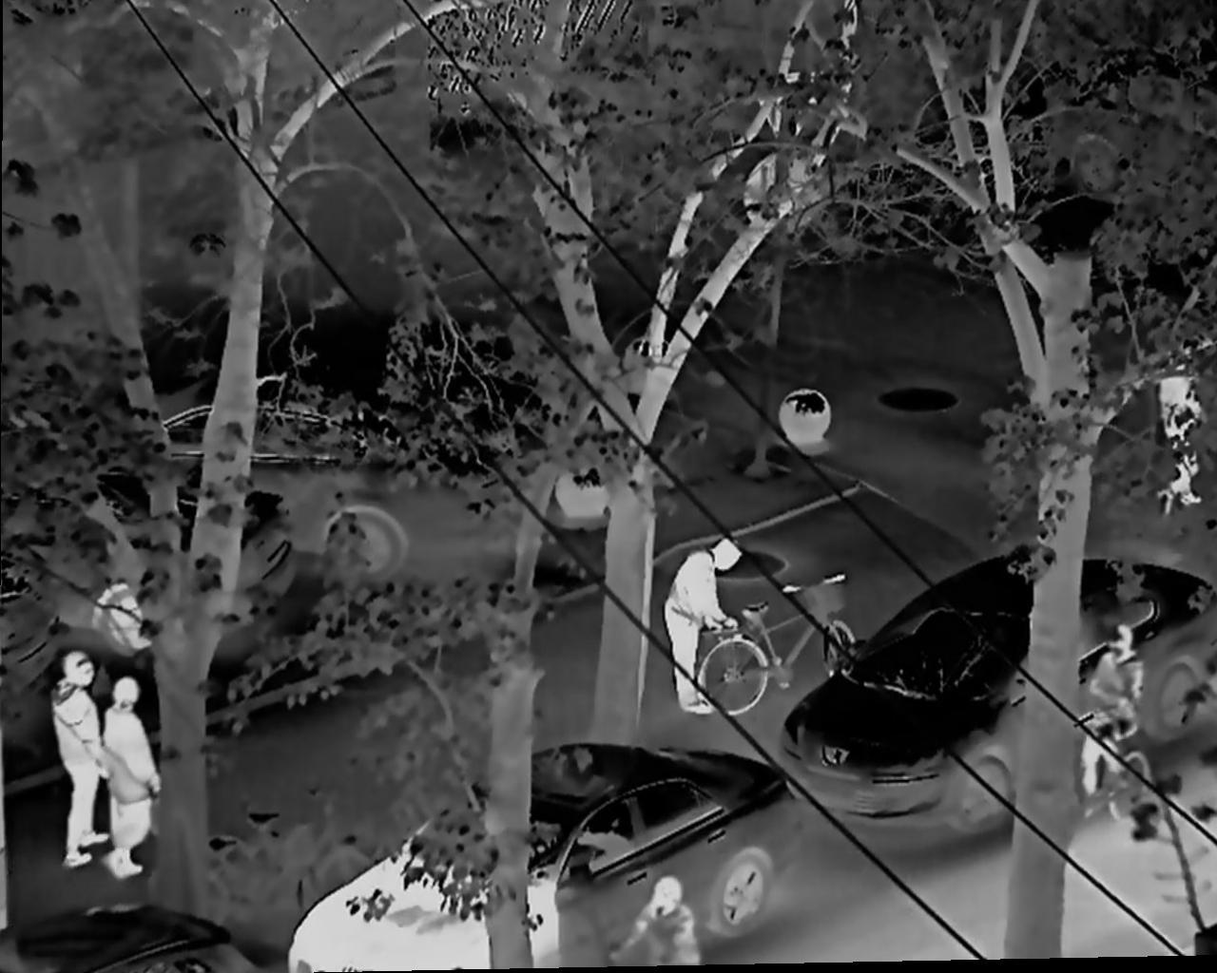person: (663, 535, 744, 714), (101, 674, 159, 879), (1081, 622, 1143, 805), (51, 650, 103, 868), (603, 872, 701, 973)
